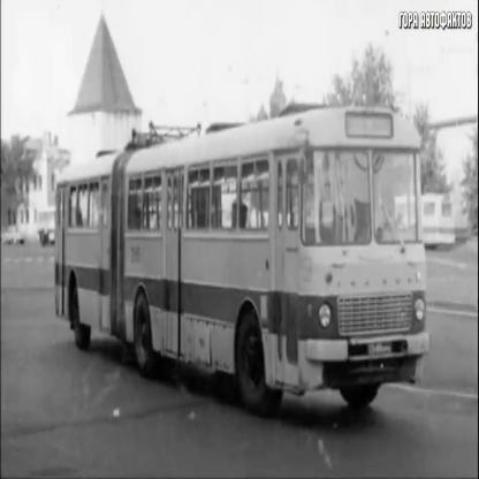bus: (55, 83, 430, 423)
